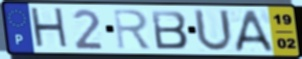2: (69, 7, 106, 51)
A: (233, 9, 276, 54)
B: (149, 9, 190, 50)
H: (28, 6, 72, 51)
R: (112, 8, 154, 51)
U: (192, 7, 235, 54)
